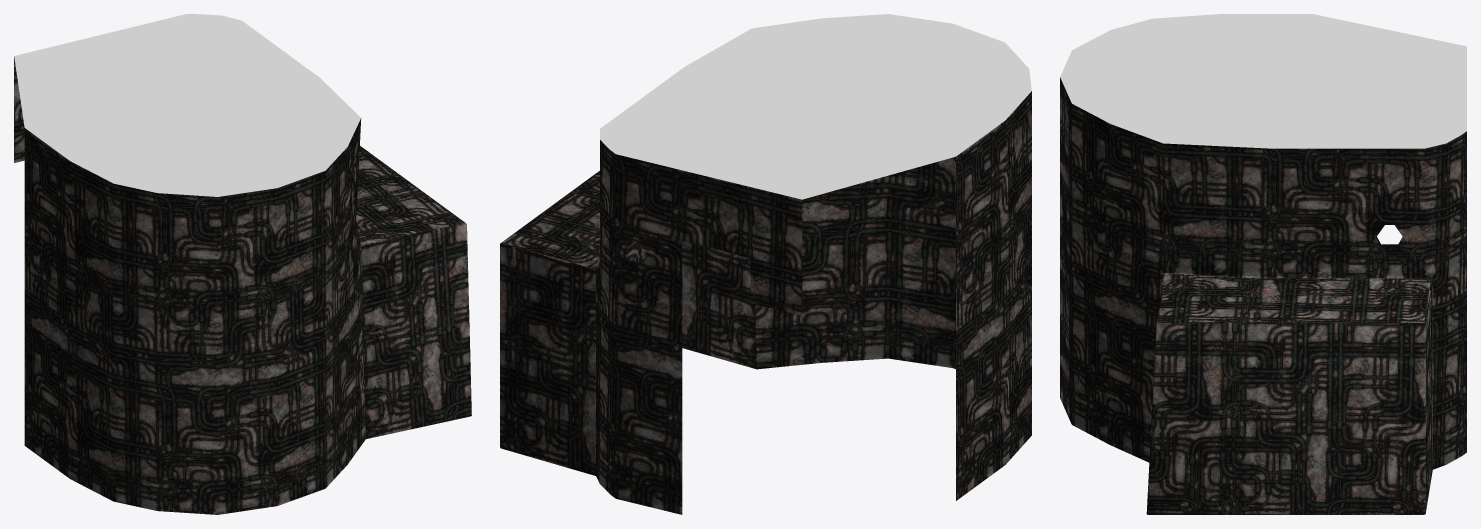
The model's file is BigRoom0.fbx.
3 renders of one model, left to right at view 1: azimuth 30°, elevation 25°; view 2: azimuth 150°, elevation 25°; view 3: azimuth 270°, elevation 25°, orthographic. The views are drawn at different scales.
Parts seen in each view (by area): view 1: Plane.393; view 2: Plane.393; view 3: Plane.393.
Boxes of the visible parts, left/top/right/bottom form: Plane.393: left=14, top=14, right=471, bottom=514; Plane.393: left=500, top=14, right=1031, bottom=514; Plane.393: left=1060, top=14, right=1466, bottom=514.
Bounding box in the file's own units: 102933 × 85517 × 98100.
